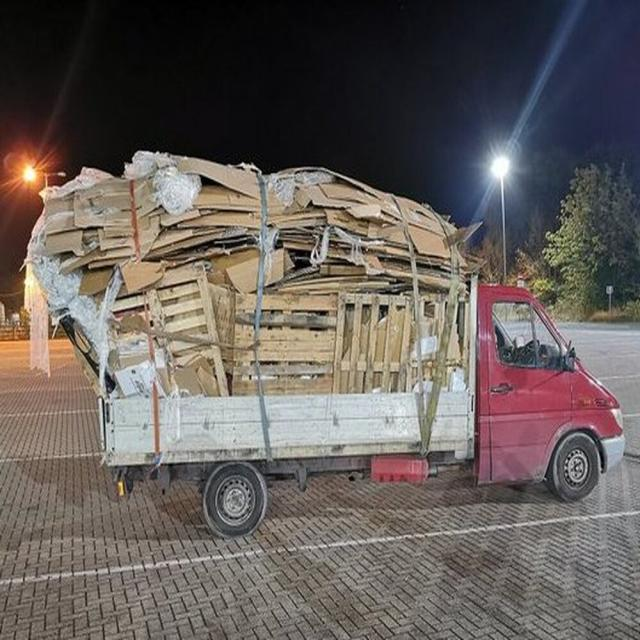overloaded_truck: (21, 148, 625, 537)
